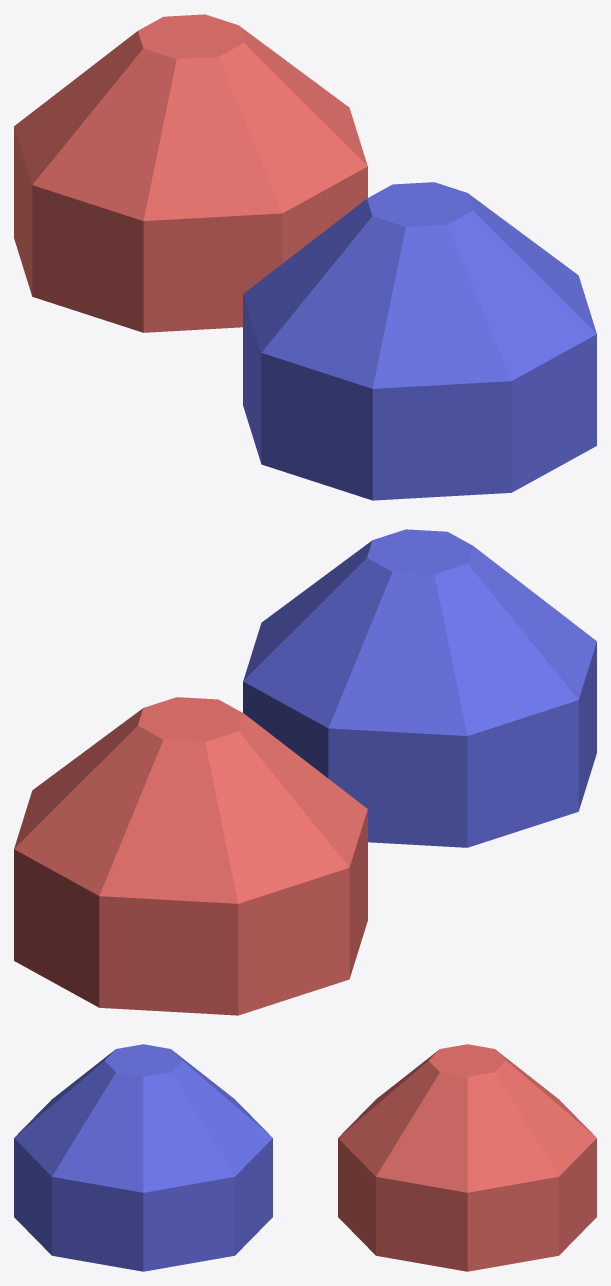
File: Bases.fbx
3 renders of one model, top to bottom at view 1: azimuth 30°, elevation 25°; view 2: azimuth 150°, elevation 25°; view 3: azimuth 270°, elevation 25°, orthographic. The views are drawn at different scales.
Parts seen in each view (by area): view 1: Cylinder, Cylinder.001; view 2: Cylinder.001, Cylinder; view 3: Cylinder, Cylinder.001.
Boxes of the visible parts, x1,y1,x2,y2 form: Cylinder: (243, 182, 596, 500); Cylinder.001: (14, 14, 367, 332); Cylinder.001: (14, 697, 367, 1015); Cylinder: (243, 529, 596, 847); Cylinder: (14, 1044, 272, 1271); Cylinder.001: (338, 1044, 596, 1271).
Bounding box in the file's own units: 172 × 115 × 388.
